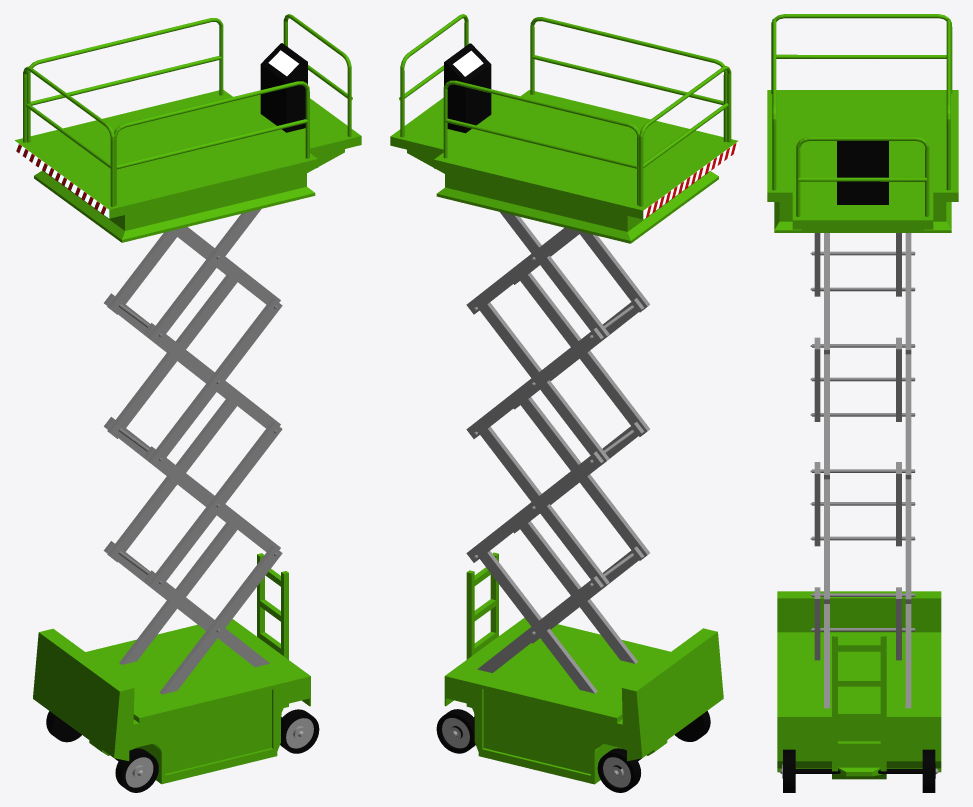
File: lifter.fbx
The picture shows the model from 3 angles, left to right: view 1: azimuth 30°, elevation 25°; view 2: azimuth 150°, elevation 25°; view 3: azimuth 270°, elevation 25°; orthographic projection.
Visible parts, largest first — view 1: Cube.006, Cylinder.005, Cube.021; view 2: Cube.006, Cylinder.005, Cube.021; view 3: Cube.006, Cylinder.005, Cube.021.
Part boxes in pixels (x1,y1,x2,y2): Cube.006: [14, 14, 361, 242]; Cylinder.005: [33, 553, 319, 792]; Cube.021: [103, 209, 282, 694]; Cube.006: [390, 14, 738, 243]; Cylinder.005: [436, 552, 723, 792]; Cube.021: [466, 212, 649, 693]; Cube.006: [767, 14, 958, 232]; Cylinder.005: [777, 591, 941, 792]; Cube.021: [810, 233, 915, 708].
Size of the model in its own units: 283 by 689 by 175.
